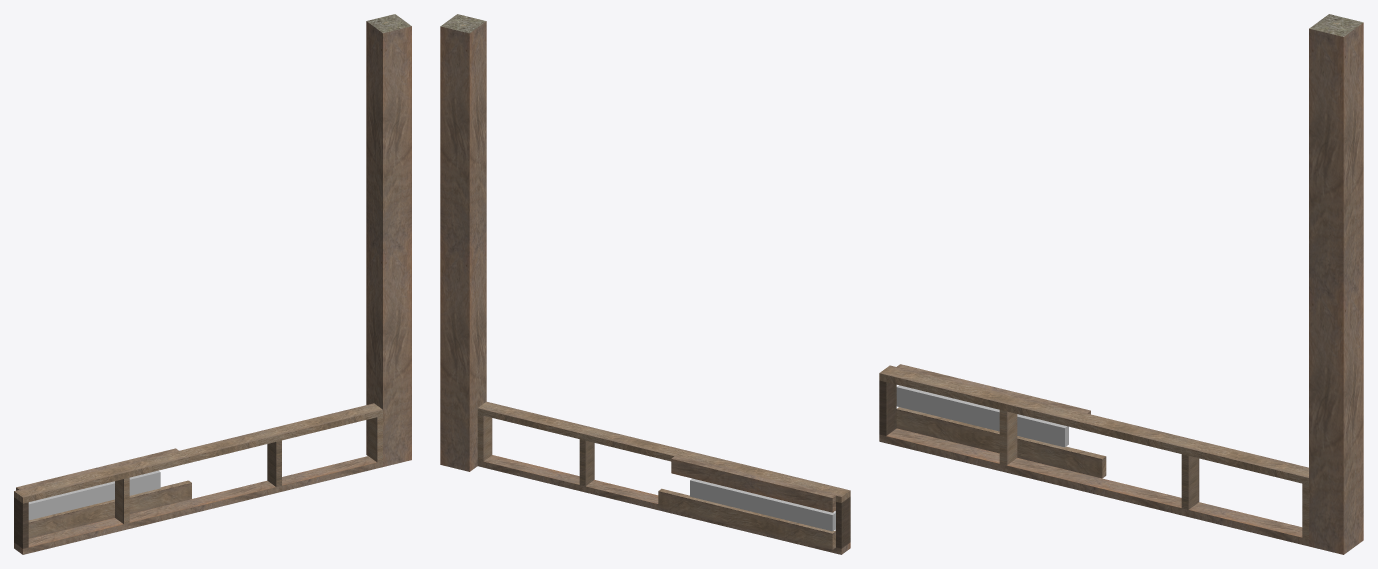
File: WallFloorDividerDestroyF.fbx
The picture shows the model from 3 angles, left to right: view 1: azimuth 30°, elevation 25°; view 2: azimuth 150°, elevation 25°; view 3: azimuth 330°, elevation 25°; orthographic projection. The views are drawn at different scales.
Parts seen in each view (by area): view 1: WallFloorDividerDestroyF; view 2: WallFloorDividerDestroyF; view 3: WallFloorDividerDestroyF.
Part boxes in pixels (x1,y1,x2,y2): WallFloorDividerDestroyF: (14, 14, 411, 554); WallFloorDividerDestroyF: (440, 14, 850, 554); WallFloorDividerDestroyF: (879, 14, 1363, 554).
Bounding box in the file's own units: 404 × 431 × 30.09.
